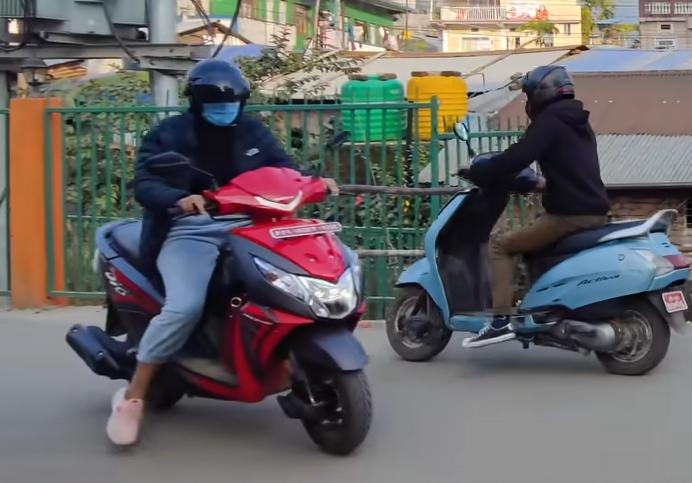scooter: (59, 131, 376, 463), (387, 117, 692, 377)
